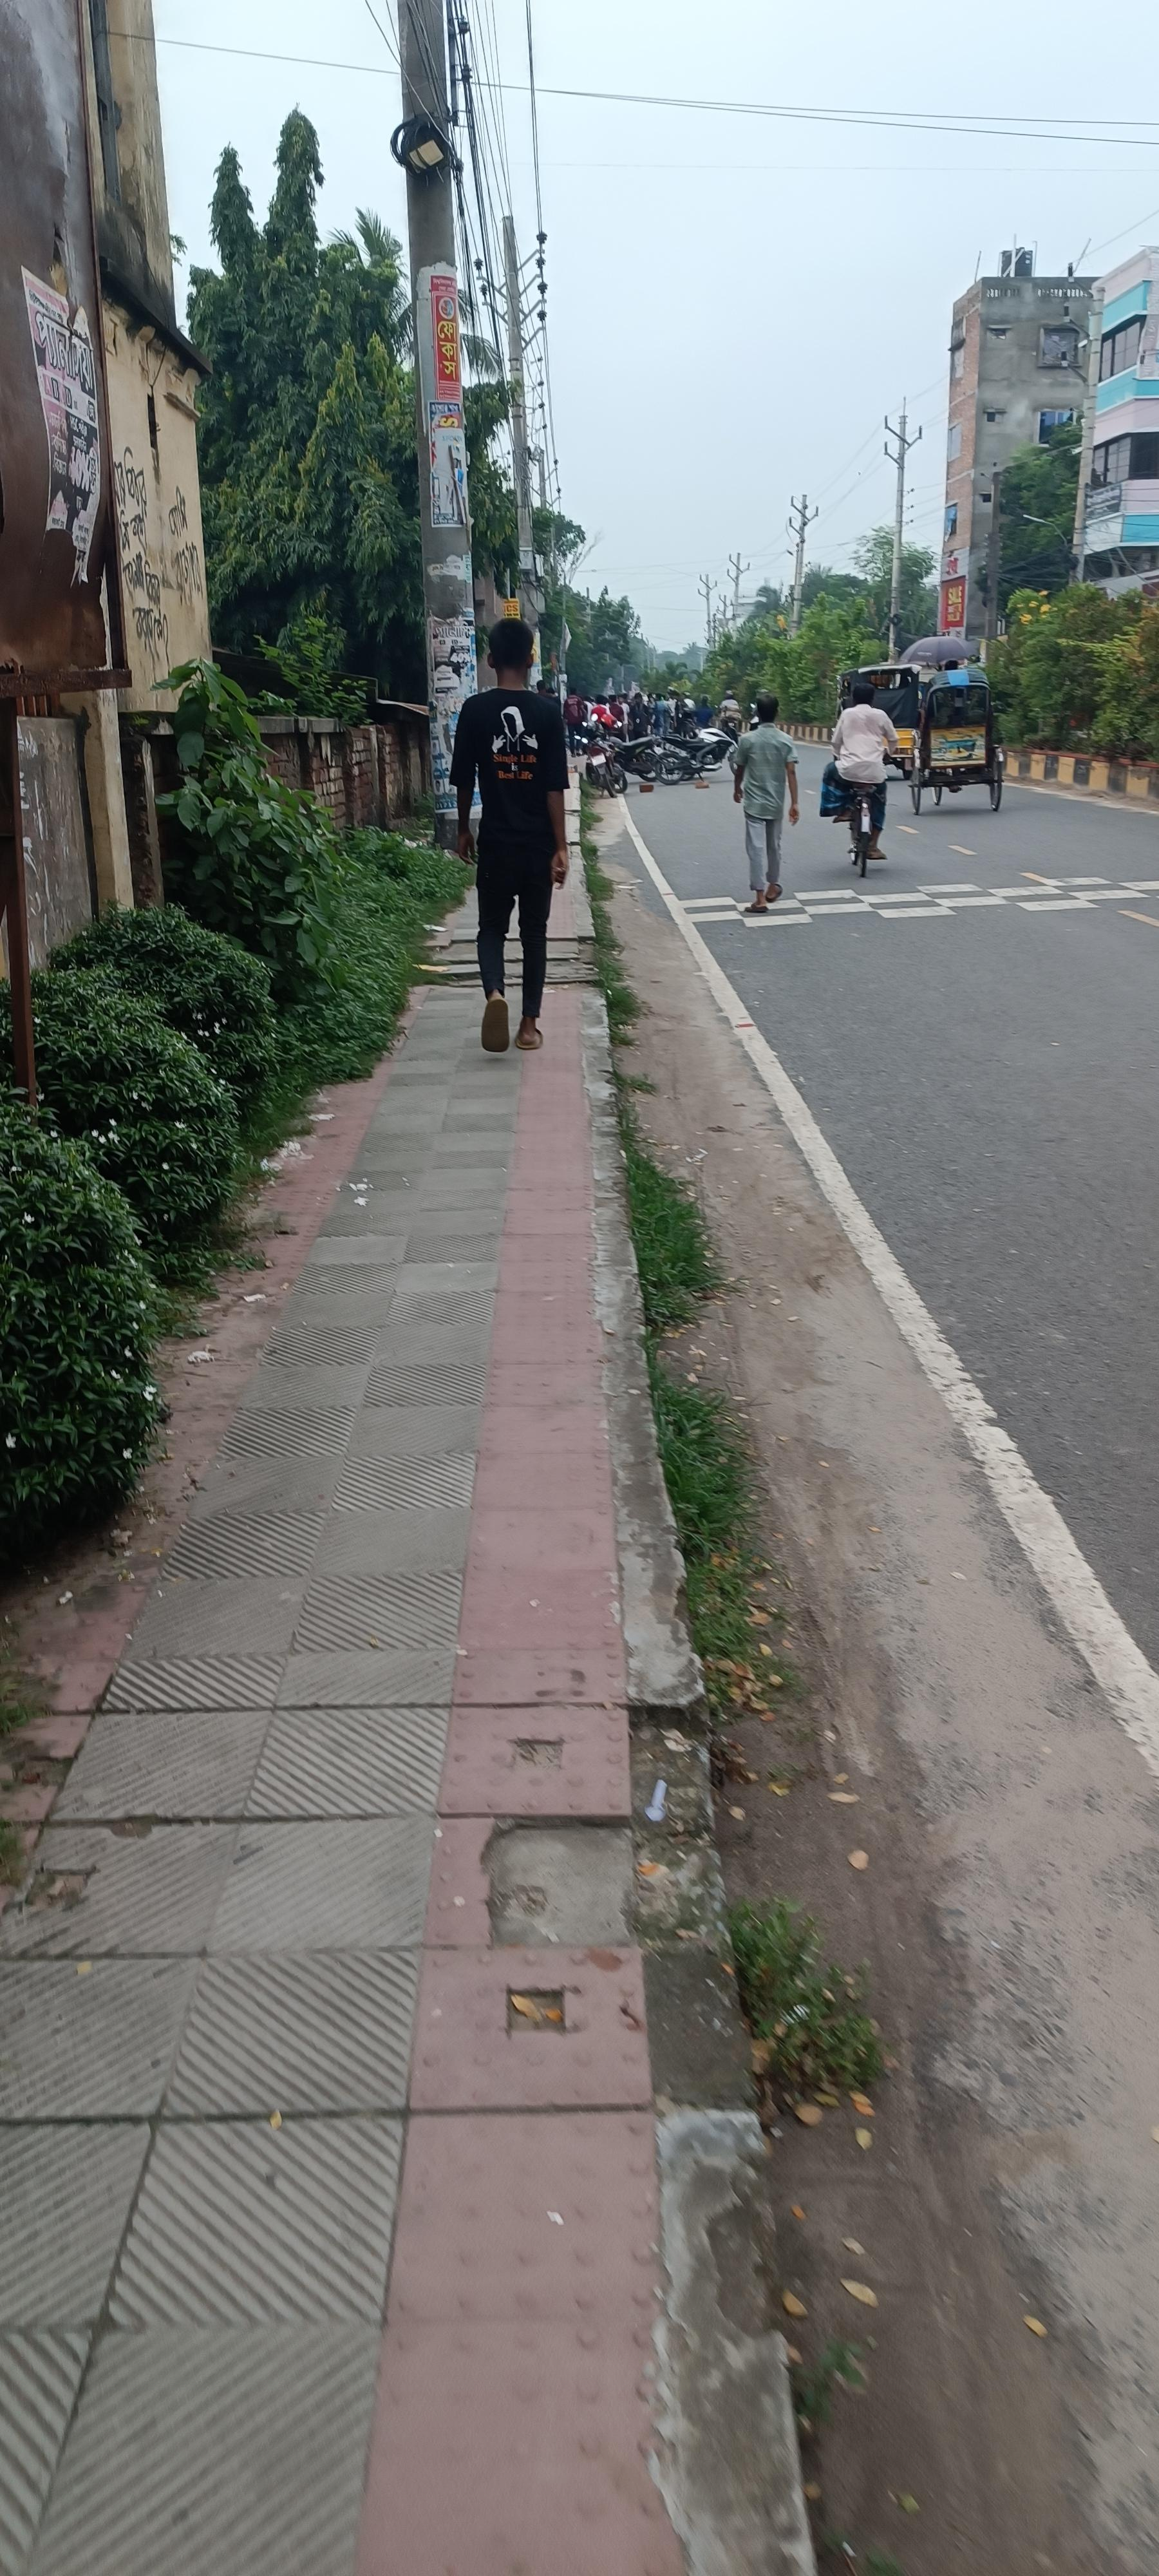Garbage-bin: (451, 618, 571, 1050), (729, 695, 801, 912), (831, 680, 901, 859)
Pothole: (3, 767, 795, 2571)
